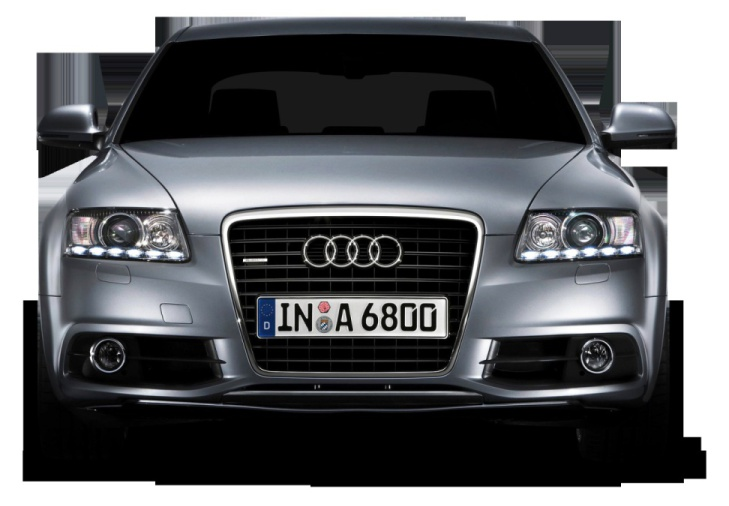audi: (295, 233, 408, 272)
